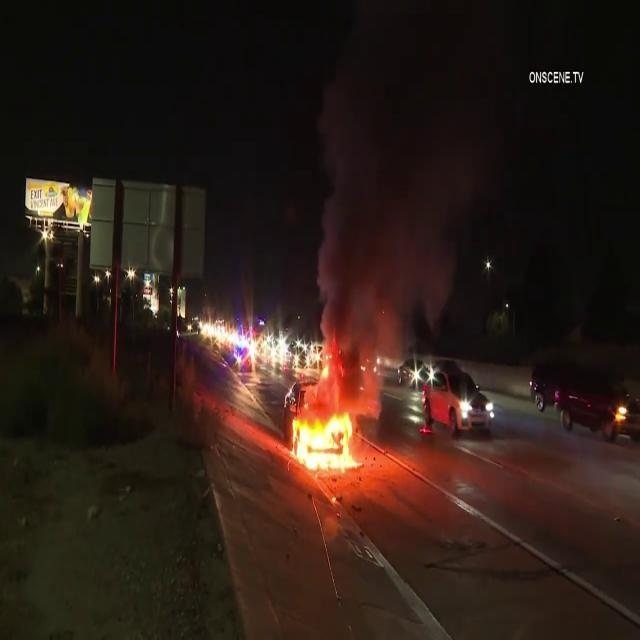Fire: (288, 394, 364, 476)
Smoke: (308, 0, 507, 387)
